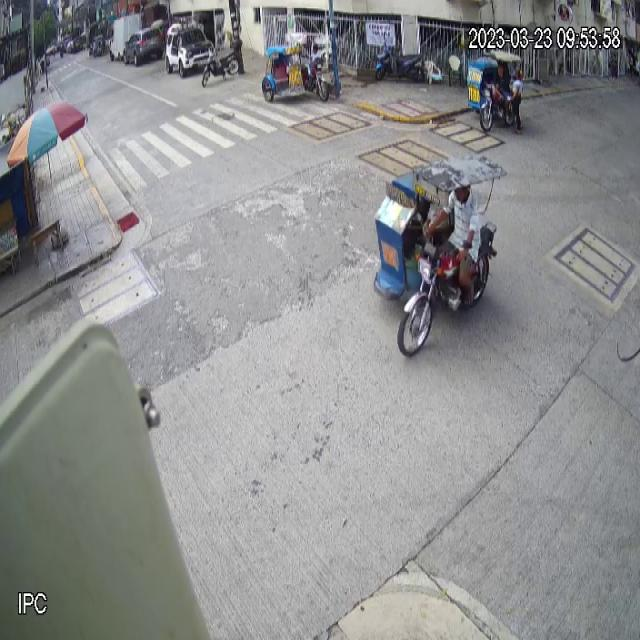Tricycle: (373, 150, 508, 359), (262, 32, 330, 102), (467, 50, 523, 133)
